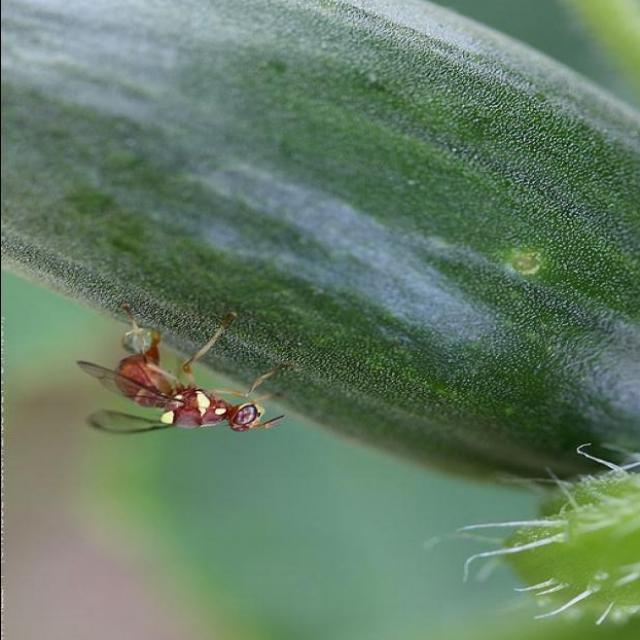Fruit fly: (66, 296, 301, 443)
